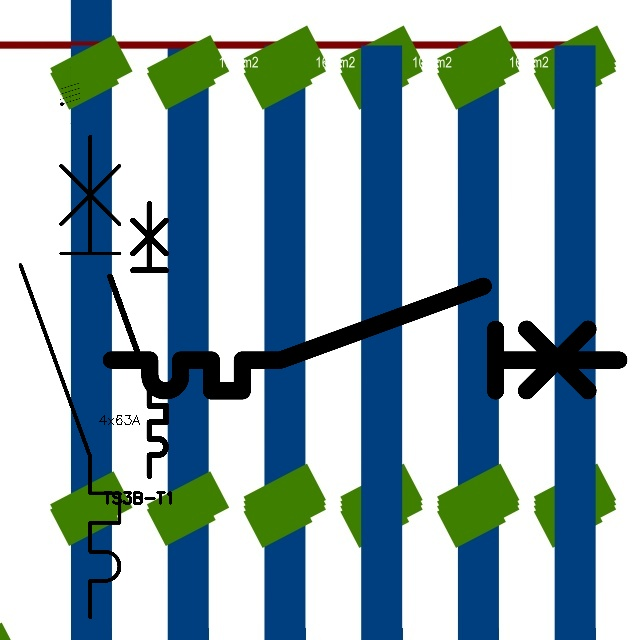interruptor_termomagnetico: (98, 273, 632, 404), (8, 124, 132, 630), (103, 197, 173, 483)
